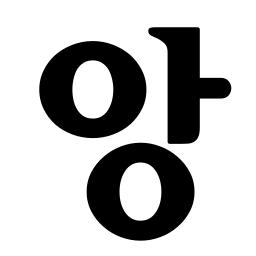Gaji: (158, 63, 215, 113)
